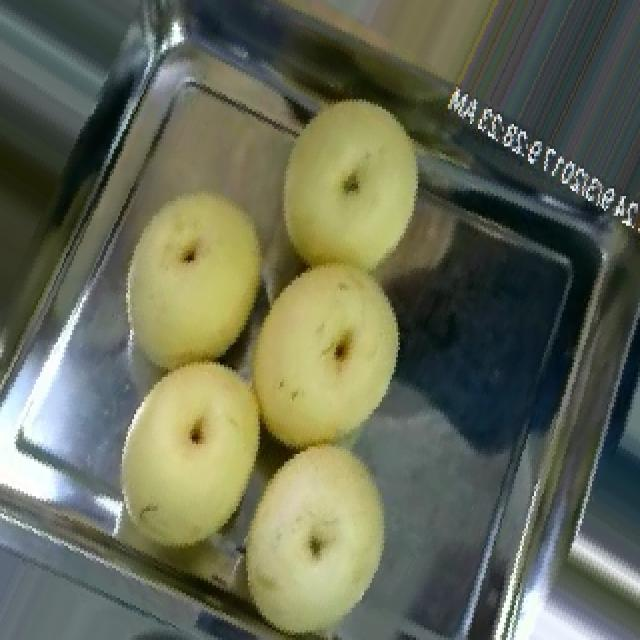Fruit: (88, 149, 306, 399), (212, 231, 430, 478), (246, 70, 452, 308), (90, 335, 290, 573), (210, 419, 408, 640)
